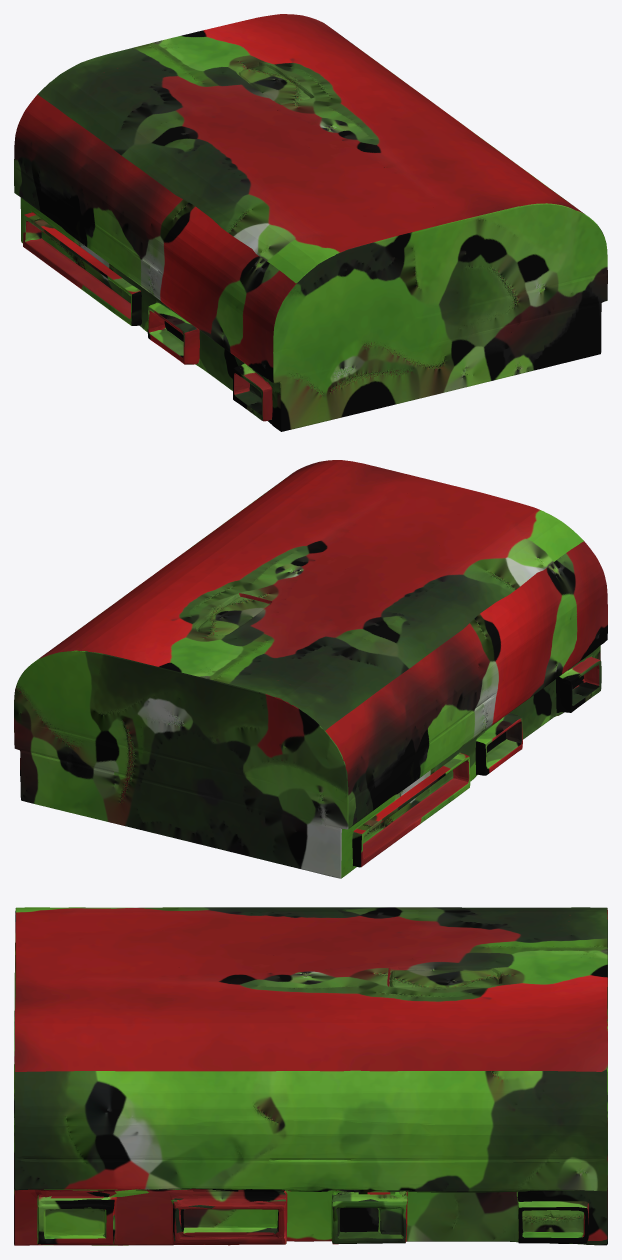
The model's file is sample.obj.
3 views of the same model, one above another, from view 1: azimuth 30°, elevation 25°; view 2: azimuth 150°, elevation 25°; view 3: azimuth 270°, elevation 25° (orthographic). The views are drawn at different scales.
Bounding box in the file's own units: 0.1055 × 0.05 × 0.1401.
